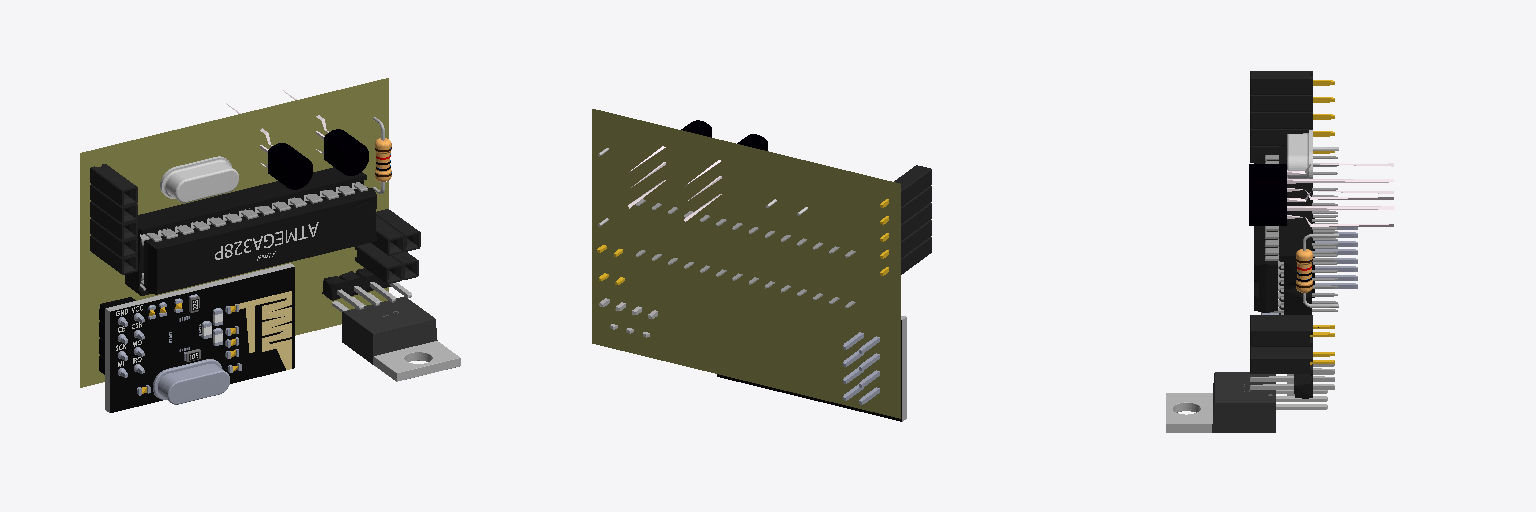
The model's file is OBJ_PCB_OXIMETER.obj.
The picture shows the model from 3 angles: view 1: azimuth 30°, elevation 25°; view 2: azimuth 150°, elevation 25°; view 3: azimuth 270°, elevation 25°; orthographic projection.
Size of the model in its own units: 190 by 147 by 122.